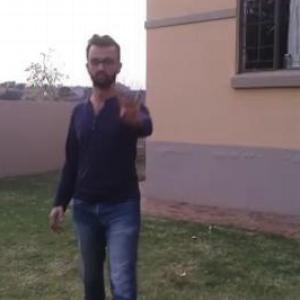takeoff-hand: (111, 72, 152, 125)
